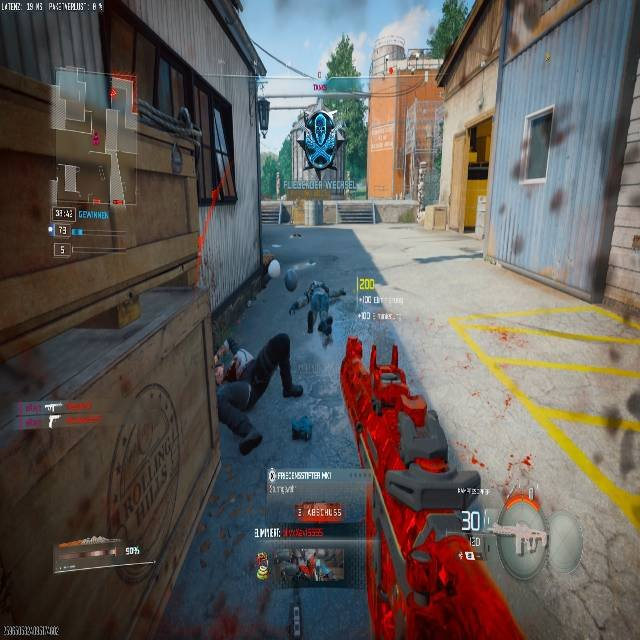player: (212, 334, 284, 455)
